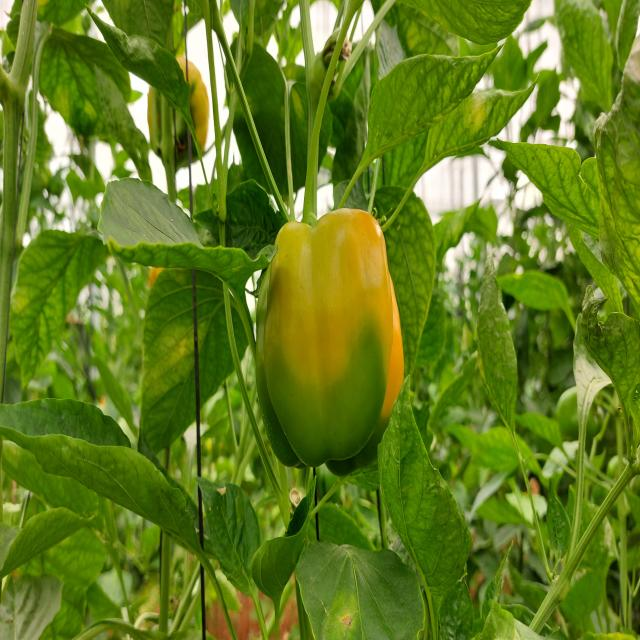GreenishYellow--Can-be-Harvested: (245, 192, 418, 472)
